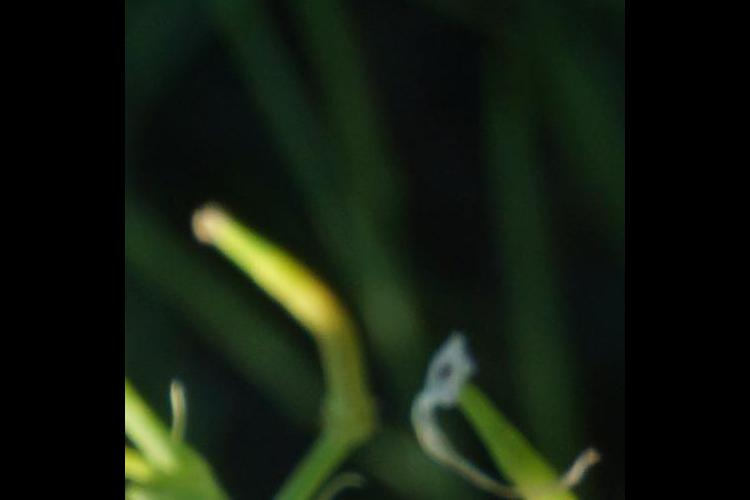pod: (184, 179, 373, 379)
